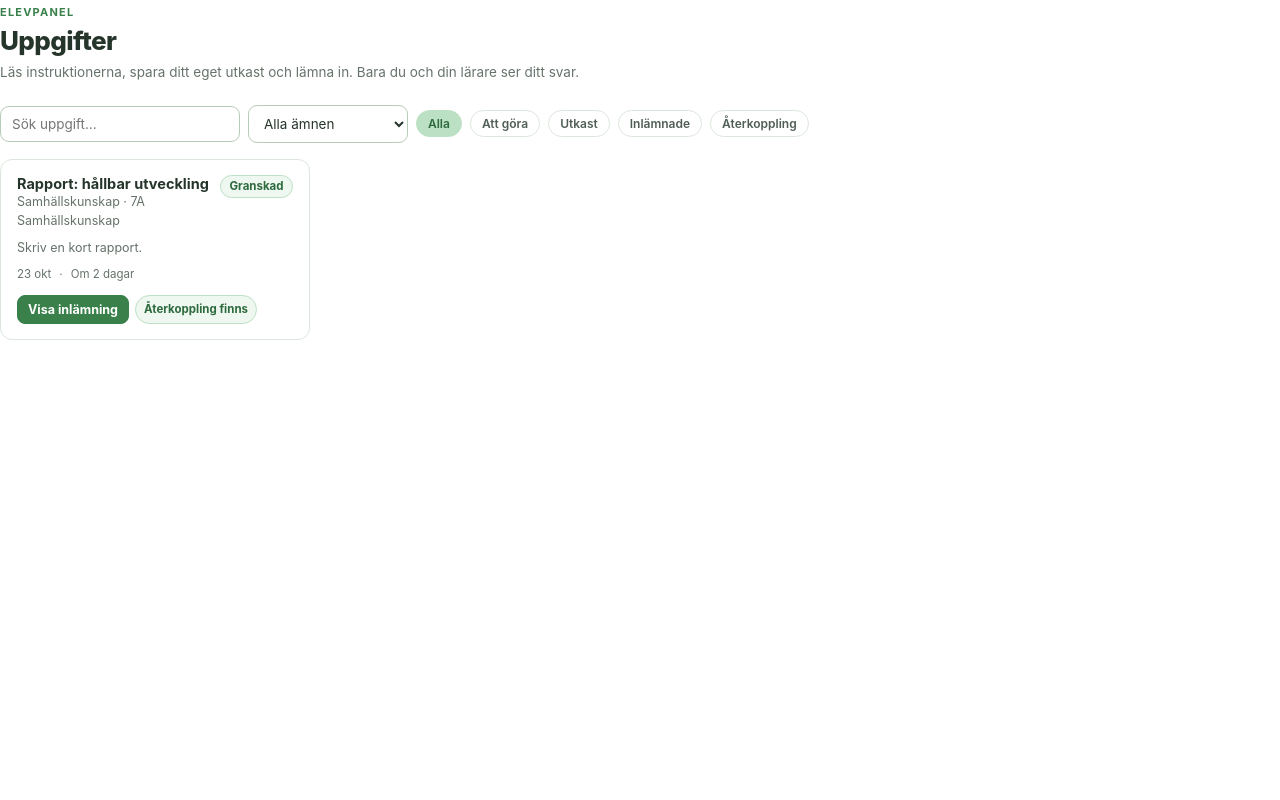
ElevUppgifter › visar lärarens återkoppling och låser ett granskat svar
Check: the heading "Rapport: hållbar utveckling" is shown, box top-left (17, 175), bottom-right (210, 193)
Click the button "Visa inlämning" at (73, 310), box top-left (17, 295), bottom-right (129, 324)
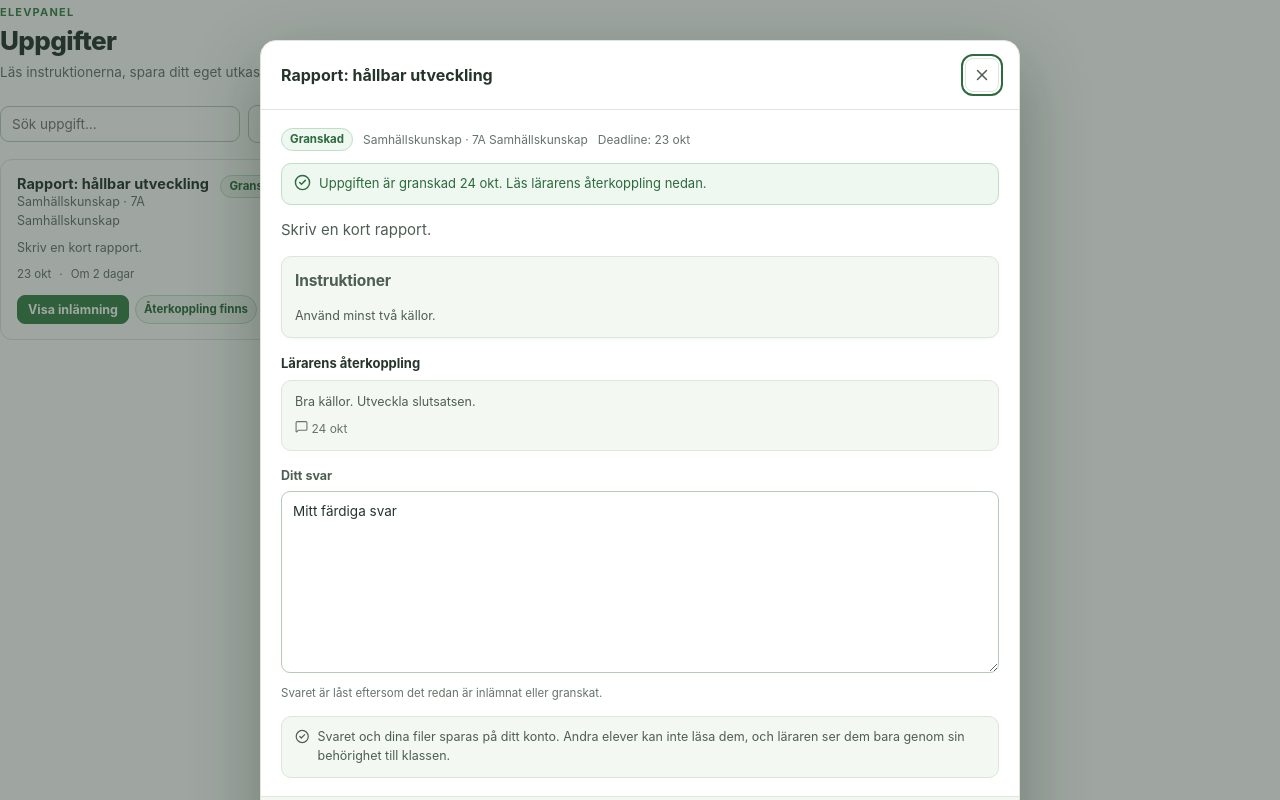
Check: the element with test id "submission-feedback" shows "Bra källor", box top-left (295, 394), bottom-right (476, 409)
Check: the text box labelled "Ditt svar" is disabled, box top-left (281, 491), bottom-right (999, 673)
